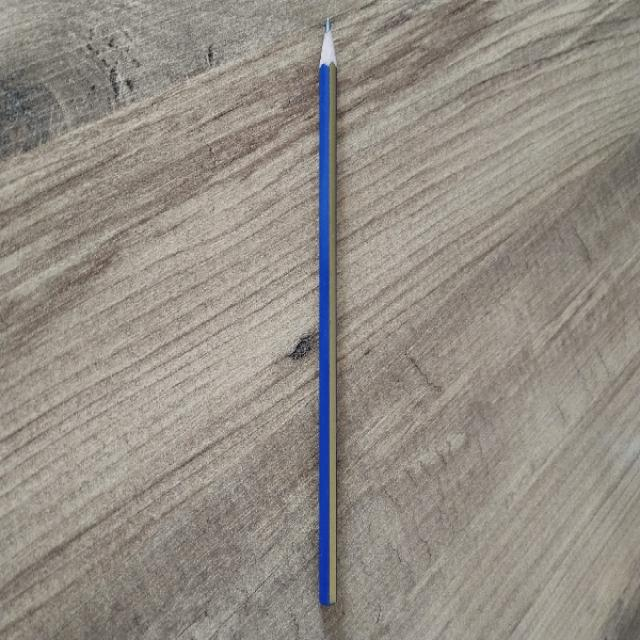pencil: (319, 20, 337, 604)
